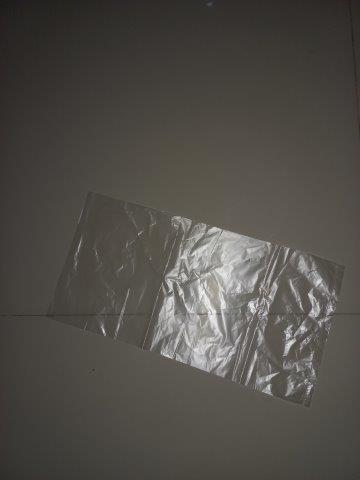plastik: (48, 193, 343, 409)
